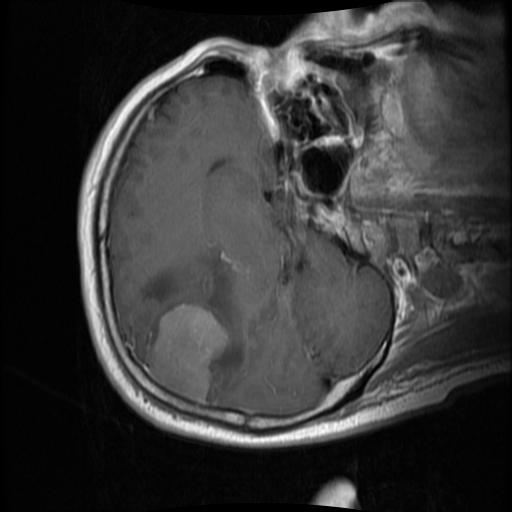meningioma: (145, 302, 228, 401)
